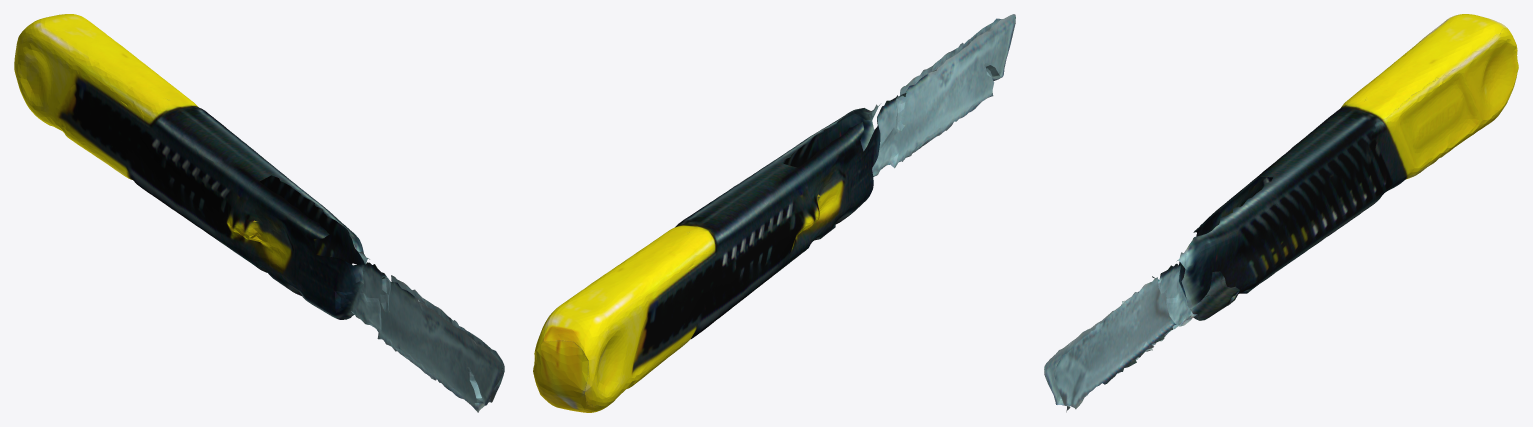
Rendered from scan_align.obj.
The picture shows the model from 3 angles, left to right: view 1: azimuth 30°, elevation 25°; view 2: azimuth 150°, elevation 25°; view 3: azimuth 330°, elevation 25°; orthographic projection.
Visible parts, largest first — view 1: all; view 2: all; view 3: all.
Part boxes in pixels (x1,y1,x2,y2): all: [14, 14, 504, 412]; all: [533, 14, 1015, 412]; all: [1044, 14, 1518, 412].
Size of the model in its own units: 0.0174 by 0.0277 by 0.2346.
Materials: 1 (1 with a texture image).
